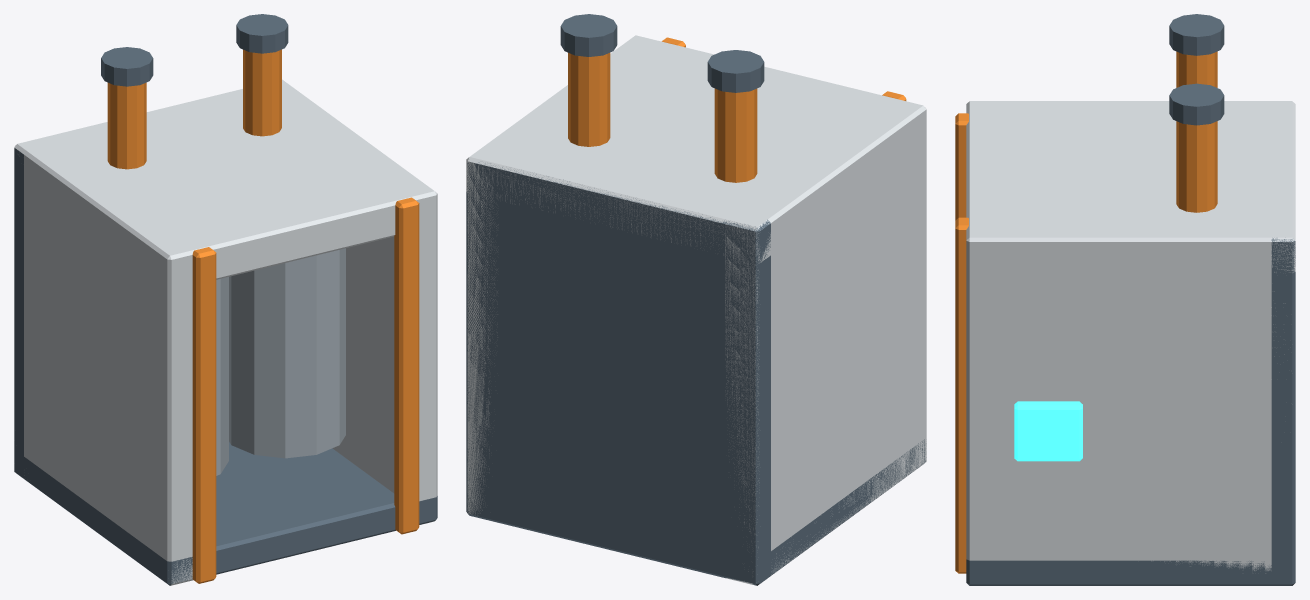
Rendered from machine-generator.fbx.
3 views of the same model, side by side, from view 1: azimuth 30°, elevation 25°; view 2: azimuth 150°, elevation 25°; view 3: azimuth 270°, elevation 25° (orthographic). The views are drawn at different scales.
Visible parts, largest first — view 1: machine-generator_Crown.001, machine-generator_Machine column.002, machine-generator_Process vessel.003, machine-generator_Skid.001, machine-generator_Machine column.003, machine-generator_Orange spine.003, machine-generator_Orange spine.002, machine-generator_Service stack.002, machine-generator_Backplane.001, machine-generator_Service stack.003, machine-generator_Process vessel.002, machine-generator_Stack cap.003 (+1 smaller); view 2: machine-generator_Backplane.001, machine-generator_Machine column.002, machine-generator_Crown.001, machine-generator_Skid.001, machine-generator_Machine column.003, machine-generator_Service stack.002, machine-generator_Service stack.003, machine-generator_Stack cap.002, machine-generator_Stack cap.003; view 3: machine-generator_Machine column.003, machine-generator_Crown.001, machine-generator_Backplane.001, machine-generator_Skid.001, machine-generator_Orange spine.003, machine-generator_Operator display.001, machine-generator_Service stack.003, machine-generator_Stack cap.003, machine-generator_Stack cap.002, machine-generator_Service stack.002, machine-generator_Orange spine.002.
Boxes of the visible parts, left/top/right/bottom form: machine-generator_Crown.001: left=14, top=79, right=437, bottom=289; machine-generator_Machine column.002: left=24, top=184, right=197, bottom=585; machine-generator_Process vessel.003: left=229, top=248, right=345, bottom=458; machine-generator_Skid.001: left=14, top=442, right=437, bottom=585; machine-generator_Machine column.003: left=332, top=197, right=437, bottom=521; machine-generator_Orange spine.003: left=394, top=197, right=419, bottom=534; machine-generator_Orange spine.002: left=192, top=247, right=216, bottom=583; machine-generator_Service stack.002: left=107, top=82, right=146, bottom=169; machine-generator_Backplane.001: left=14, top=148, right=23, bottom=478; machine-generator_Service stack.003: left=243, top=49, right=281, bottom=136; machine-generator_Process vessel.002: left=216, top=277, right=228, bottom=475; machine-generator_Stack cap.003: left=236, top=14, right=288, bottom=53; machine-generator_Backplane.001: left=466, top=162, right=770, bottom=585; machine-generator_Machine column.002: left=725, top=141, right=926, bottom=585; machine-generator_Crown.001: left=466, top=35, right=926, bottom=263; machine-generator_Skid.001: left=466, top=439, right=926, bottom=584; machine-generator_Machine column.003: left=467, top=161, right=498, bottom=515; machine-generator_Service stack.002: left=714, top=88, right=757, bottom=182; machine-generator_Service stack.003: left=568, top=52, right=610, bottom=146; machine-generator_Stack cap.002: left=707, top=50, right=764, bottom=92; machine-generator_Stack cap.003: left=560, top=14, right=617, bottom=56; machine-generator_Machine column.003: left=966, top=242, right=1285, bottom=573; machine-generator_Crown.001: left=966, top=101, right=1295, bottom=273; machine-generator_Backplane.001: left=1271, top=238, right=1295, bottom=585; machine-generator_Skid.001: left=966, top=559, right=1295, bottom=585; machine-generator_Orange spine.003: left=955, top=217, right=968, bottom=573; machine-generator_Operator display.001: left=1014, top=401, right=1082, bottom=461; machine-generator_Service stack.003: left=1176, top=121, right=1217, bottom=212; machine-generator_Stack cap.003: left=1169, top=83, right=1224, bottom=125; machine-generator_Stack cap.002: left=1169, top=14, right=1224, bottom=55; machine-generator_Service stack.002: left=1176, top=51, right=1217, bottom=87; machine-generator_Orange spine.002: left=955, top=113, right=968, bottom=220.
Bounding box in the file's own units: 256 × 368 × 248.
